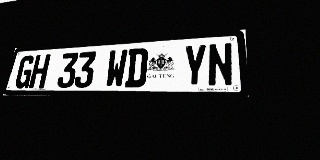3: (73, 51, 97, 88), (56, 52, 79, 88)
D: (124, 48, 149, 88)
G: (14, 55, 36, 88)
H: (28, 54, 51, 88)
N: (208, 42, 234, 87)
W: (104, 49, 128, 88)
Y: (182, 44, 207, 87)
